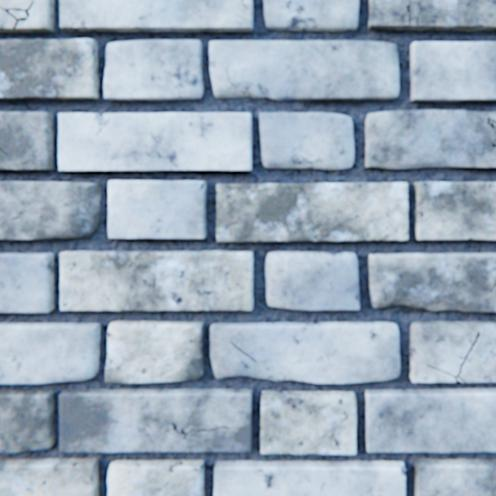brick: (60, 388, 252, 451), (211, 321, 399, 383), (61, 250, 253, 310), (210, 41, 398, 101), (217, 182, 407, 241), (59, 113, 252, 171), (365, 387, 495, 451), (365, 111, 495, 169), (368, 252, 495, 311), (214, 459, 404, 495), (0, 322, 101, 383), (61, 0, 253, 32), (106, 320, 205, 382), (261, 389, 356, 453), (0, 39, 99, 100), (0, 181, 101, 239), (105, 41, 203, 100), (109, 180, 206, 238), (265, 251, 359, 309), (260, 113, 354, 169), (409, 320, 495, 381), (410, 42, 495, 102), (414, 182, 495, 239), (368, 0, 495, 31), (0, 457, 99, 495), (108, 459, 205, 495), (0, 389, 56, 451), (0, 252, 55, 312), (0, 112, 54, 170), (414, 457, 495, 495), (264, 0, 358, 32), (0, 0, 55, 33), (10, 11, 27, 19)
crack: (426, 329, 478, 382), (0, 1, 35, 29), (230, 340, 256, 361), (171, 422, 190, 439), (227, 65, 237, 88), (192, 425, 229, 430), (403, 2, 410, 27), (486, 117, 495, 128), (415, 8, 420, 26), (489, 279, 495, 291), (199, 181, 204, 190)
